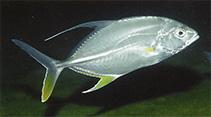Carangidae -Jacks-: (8, 11, 198, 101)
